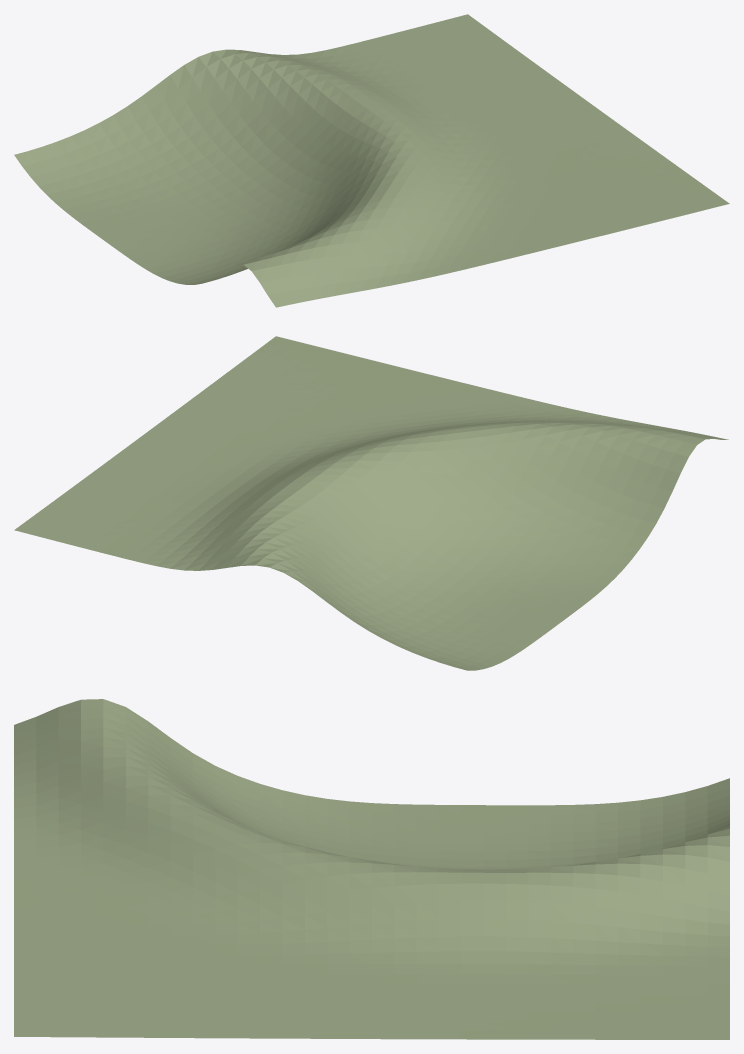
Rendered from lunar-3-0.glb.
The picture shows the model from 3 angles, top to bottom: view 1: azimuth 30°, elevation 25°; view 2: azimuth 150°, elevation 25°; view 3: azimuth 270°, elevation 25°; orthographic projection. The views are drawn at different scales.
Parts seen in each view (by area): view 1: lunar-3-0; view 2: lunar-3-0; view 3: lunar-3-0.
Boxes of the visible parts, box(x1,y1,x2,y2) form: lunar-3-0: box(14, 14, 729, 307); lunar-3-0: box(14, 336, 728, 670); lunar-3-0: box(14, 699, 729, 1039).
Bounding box in the file's own units: 128 × 21.01 × 128.
